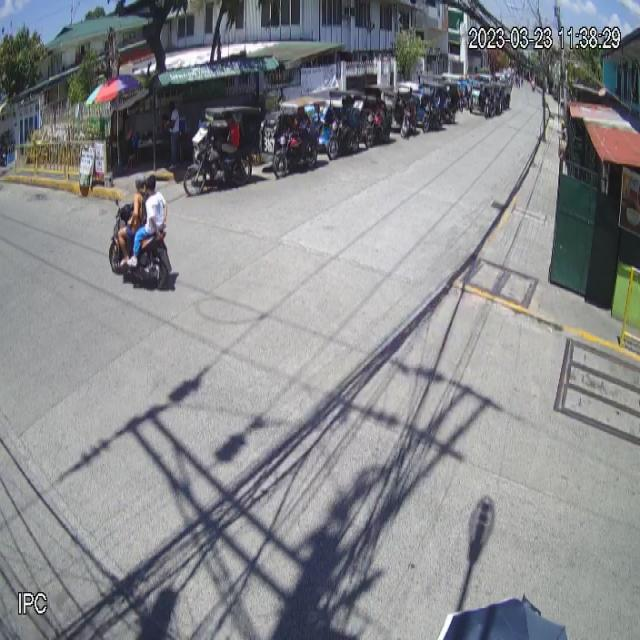Motorcycle: (108, 198, 173, 290)
